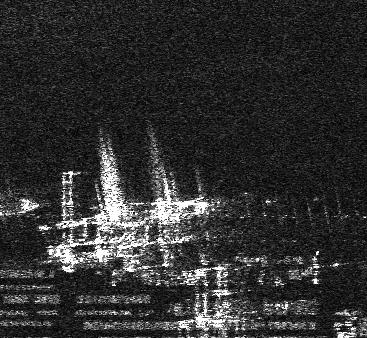ship: (95, 190, 211, 228)
